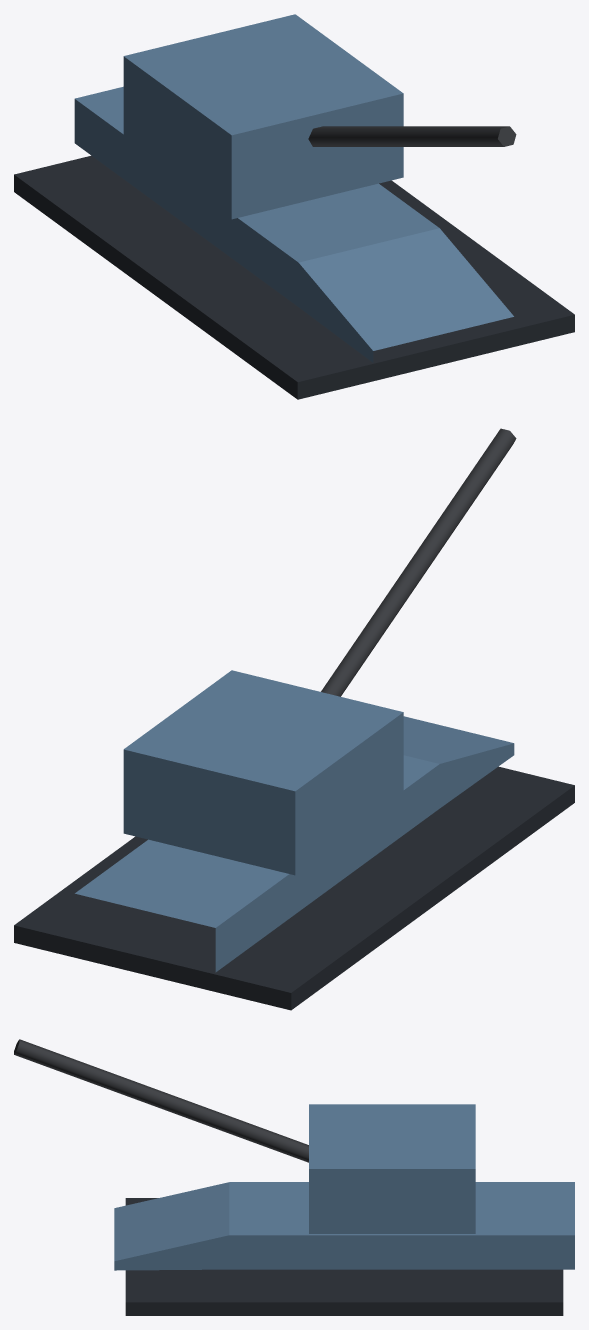
File: veh_ground_sp_artillery_a10_lod1.glb
The picture shows the model from 3 angles, top to bottom: view 1: azimuth 30°, elevation 25°; view 2: azimuth 150°, elevation 25°; view 3: azimuth 270°, elevation 25°; orthographic projection. The views are drawn at different scales.
Parts seen in each view (by area): view 1: body, turret; view 2: body, turret; view 3: body, turret.
Boxes of the visible parts, <box> form: body: <box>14,86,574,399</box>; turret: <box>123,14,516,219</box>; body: <box>14,716,574,1010</box>; turret: <box>123,428,516,875</box>; body: <box>114,1182,574,1315</box>; turret: <box>14,1039,475,1233</box>.
Bounding box in the file's own units: 4.14 × 4.17 × 9.41.
